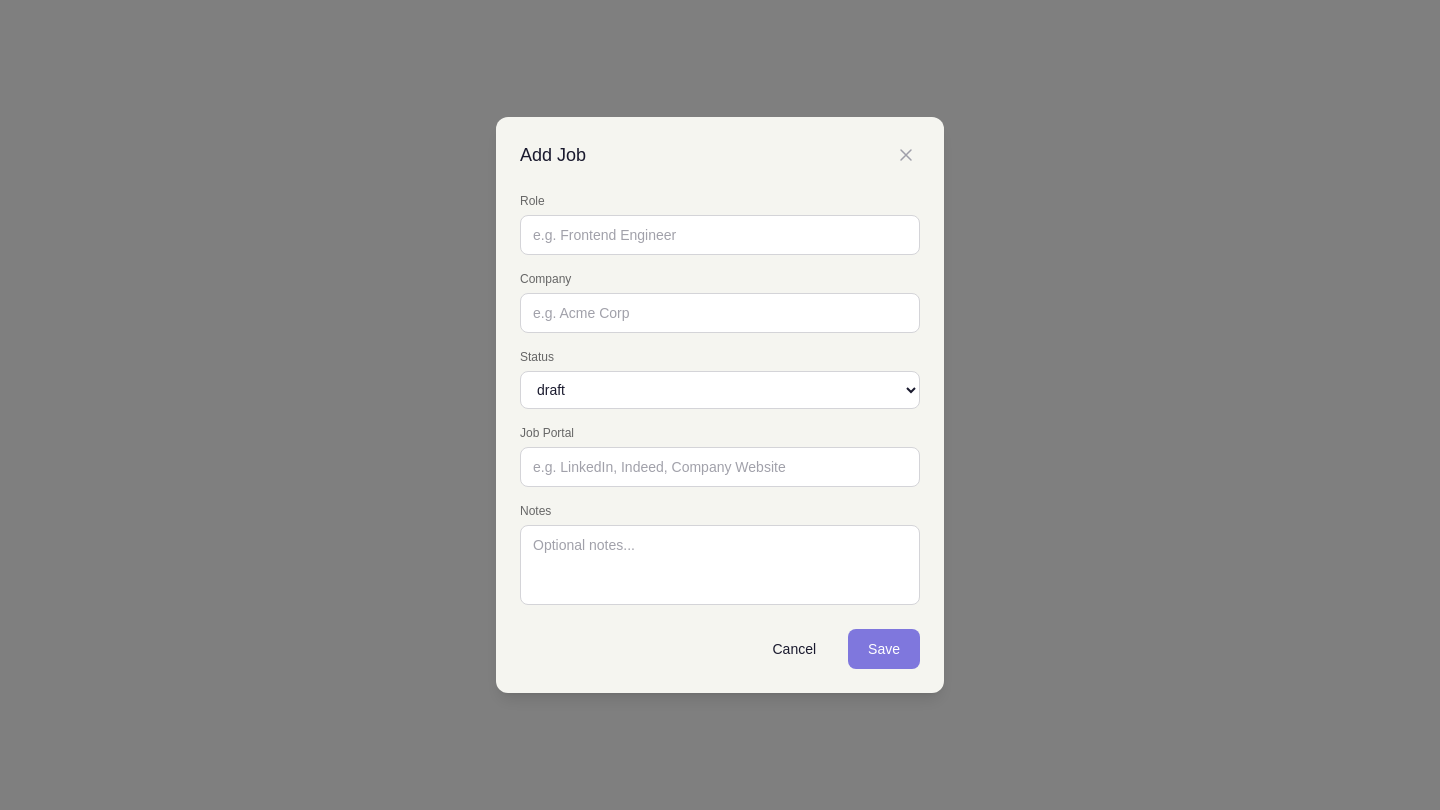
Scenario: AddJobModal › shows validation error for missing company only
Type "Engineer" into the field labelled "Role" at x=720, y=235, box [520, 215, 920, 255]
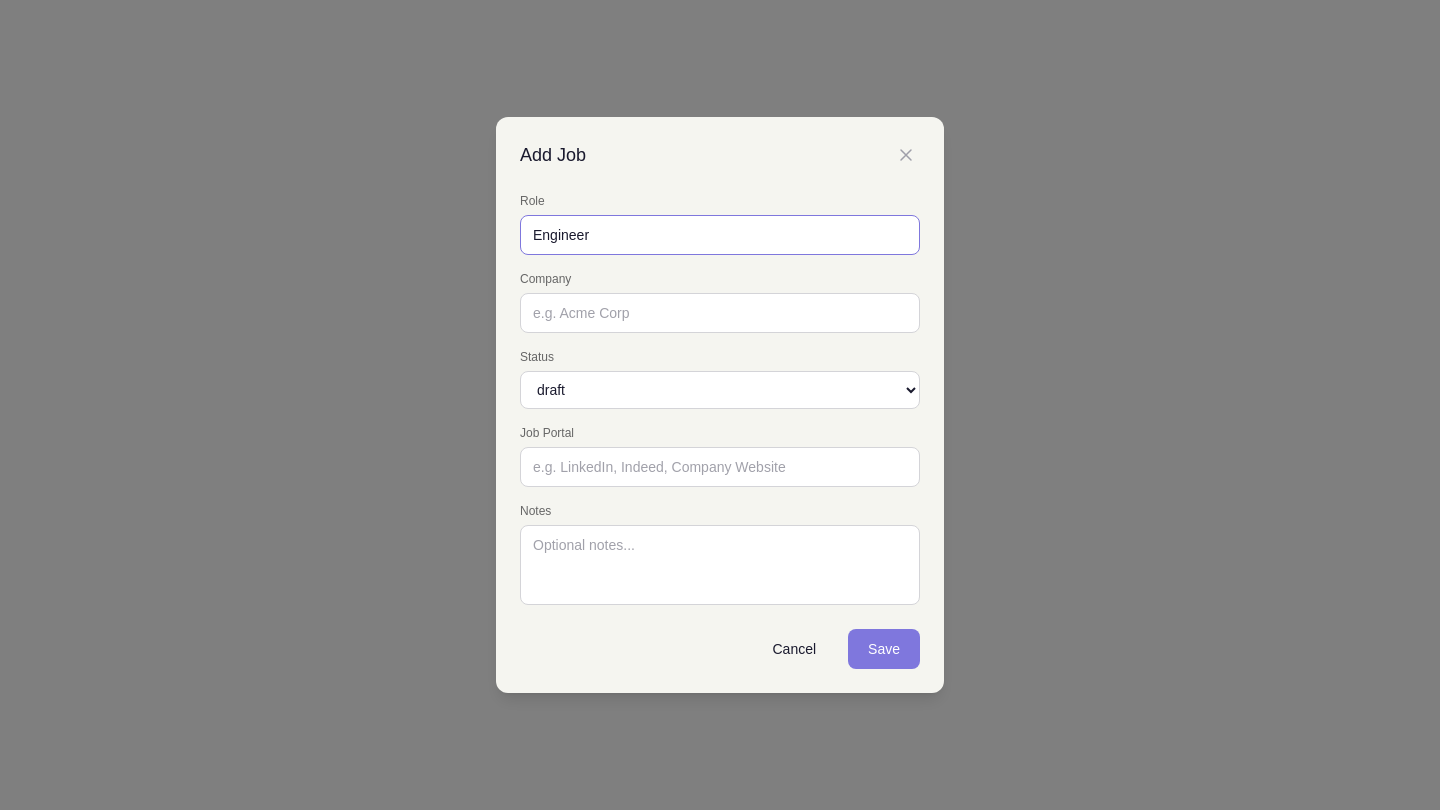
Click the button "Save" at x=884, y=649, box [848, 629, 920, 669]
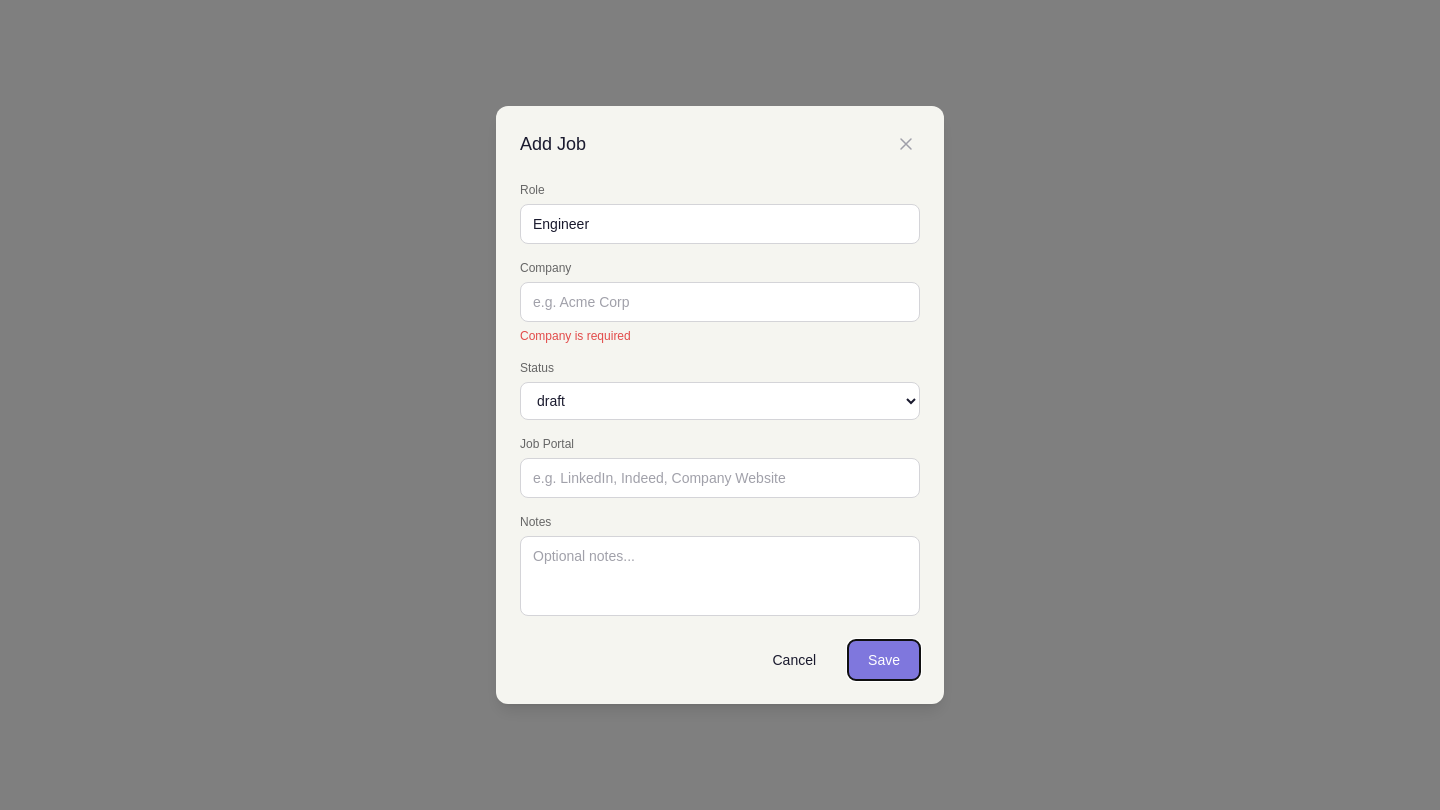
Expected: the text "Company is required" is shown, [520, 329, 631, 343]
